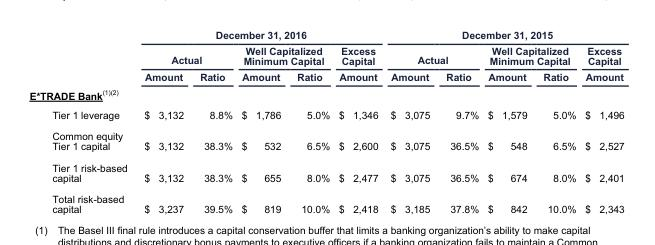table: (28, 28, 623, 214)
table column: (28, 28, 135, 214), (135, 28, 191, 214), (383, 28, 437, 214), (236, 28, 288, 214), (482, 28, 534, 214), (333, 28, 383, 214), (191, 28, 236, 214), (288, 28, 333, 214), (437, 28, 482, 214), (534, 28, 579, 214), (579, 28, 623, 214)
table column header: (28, 28, 623, 84)
table projected row header: (28, 84, 623, 104)
table row: (28, 124, 623, 156), (28, 156, 623, 187), (28, 187, 623, 214), (28, 42, 623, 68), (28, 84, 623, 104), (28, 104, 623, 124), (28, 68, 623, 84), (28, 28, 623, 42)
table spanning cell: (135, 28, 383, 42), (383, 28, 623, 42), (135, 42, 236, 68), (383, 42, 482, 68), (236, 42, 333, 68), (482, 42, 579, 68), (333, 42, 383, 84), (579, 42, 623, 84)
